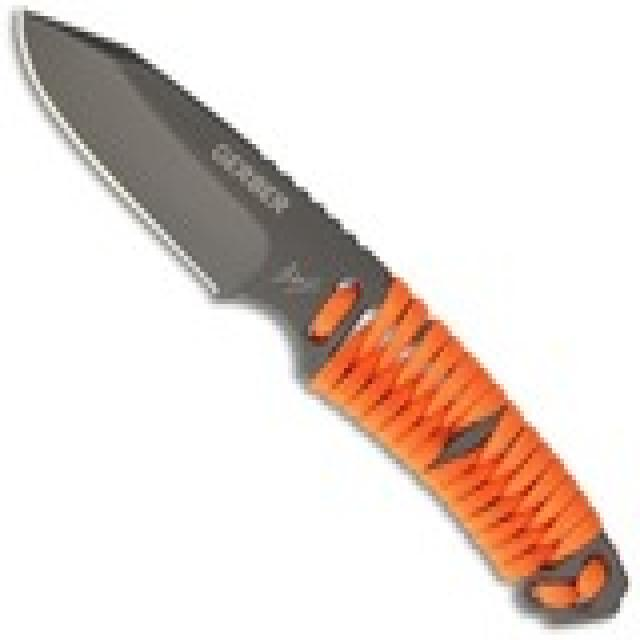Knife: (11, 0, 632, 629)
